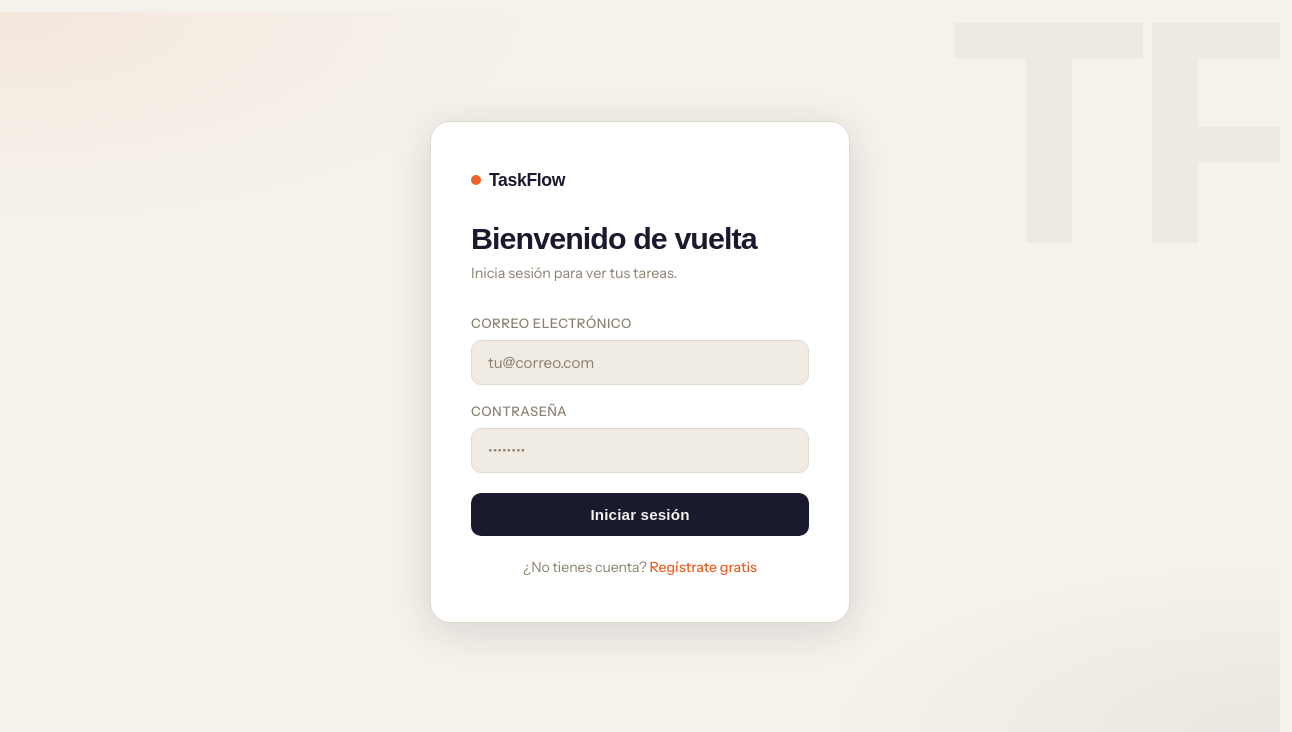
Autenticación › Página de Login › Muestra error con contraseña vacía
The width and height of the screenshot is (1292, 732).
Type "alguien@correo.com" into the field with test id "email-input" at (640, 363), box [471,340,809,385]
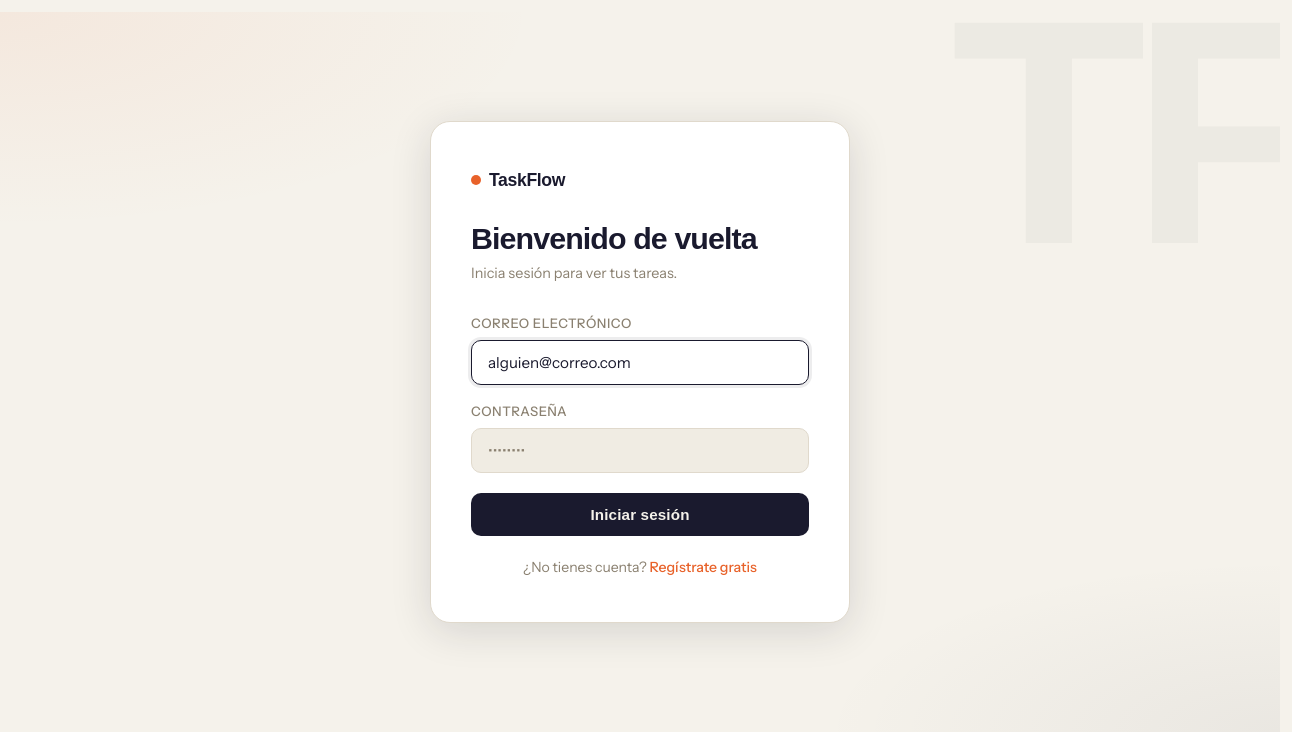
Click the button with test id "submit-btn" at (640, 515), box [471,493,809,536]
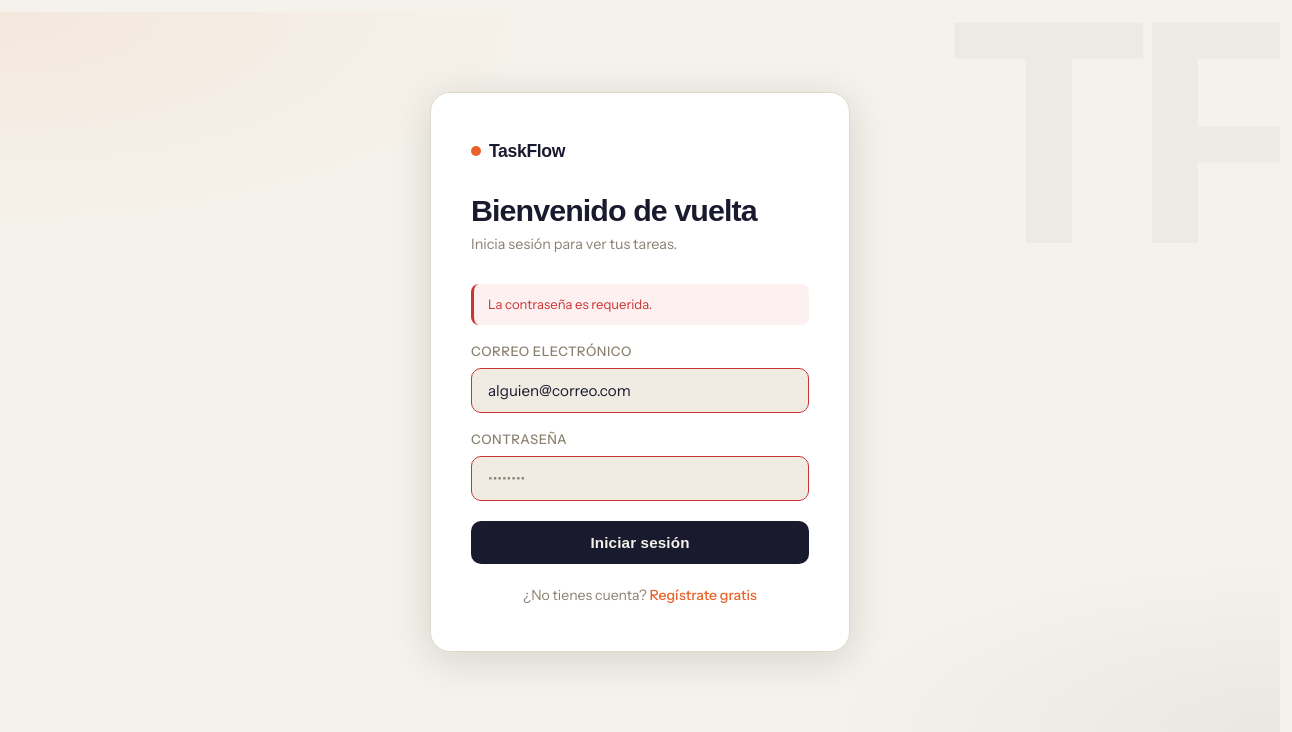
Expected: the text "La contraseña es requerida." is shown, [471,284,809,325]
